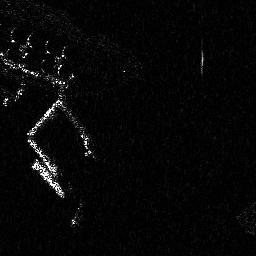ship: (31, 158, 66, 198)
